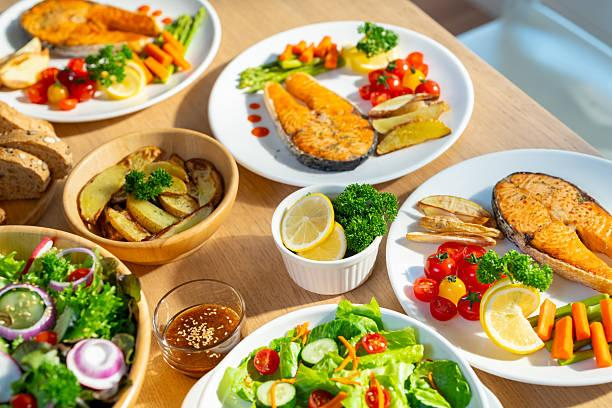Braised Crucian Carp: (380, 149, 610, 382), (206, 20, 469, 191), (2, 0, 219, 123)
